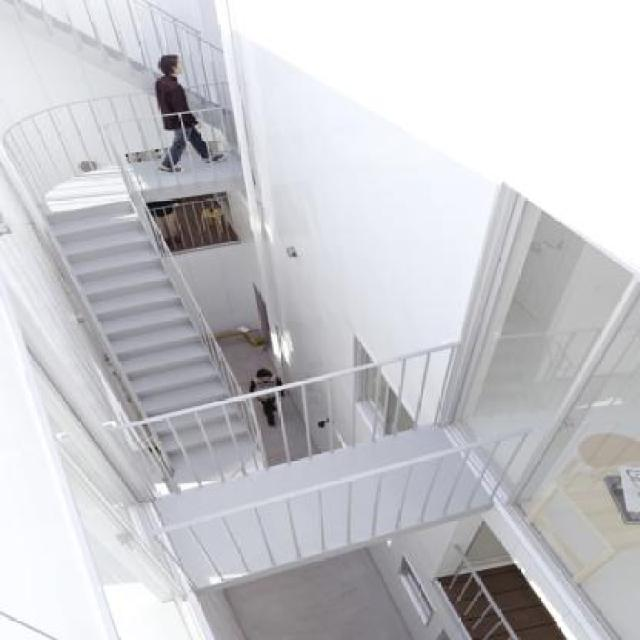stair: (0, 184, 269, 493)
